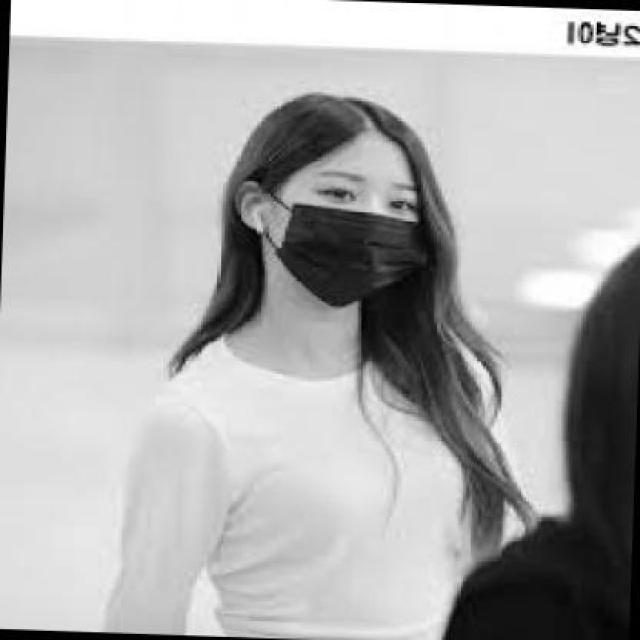earphone: (248, 195, 275, 249)
